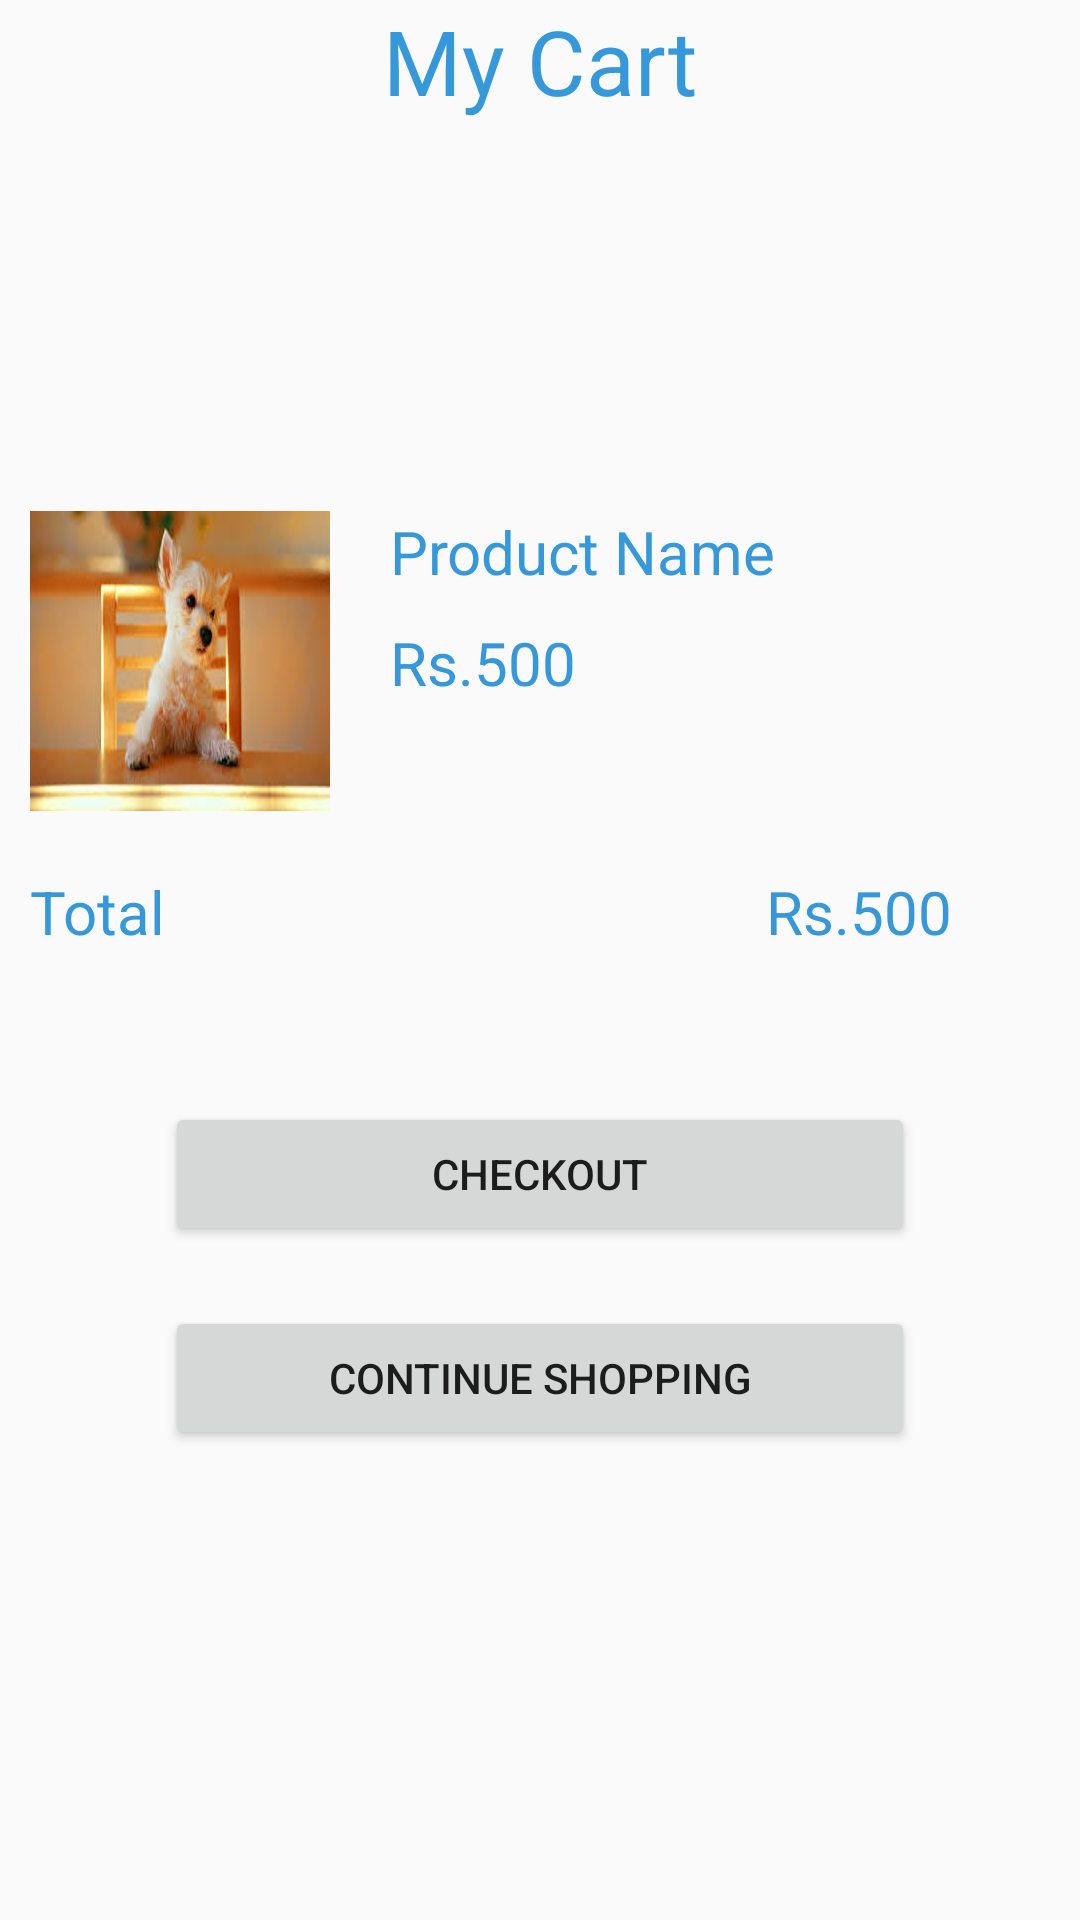

Where icons sit on this 1080x1920 app screen, as (x1, y1, x2, y2):
dog: (30, 511, 330, 811)
